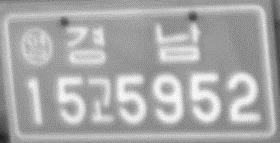1: (25, 77, 47, 126)
2: (226, 70, 263, 124)
5: (188, 70, 223, 123), (114, 73, 147, 125), (55, 75, 88, 125)
9: (151, 72, 185, 125)
경남_D: (64, 19, 202, 67)
고: (86, 77, 115, 123)
영: (20, 26, 54, 68)
